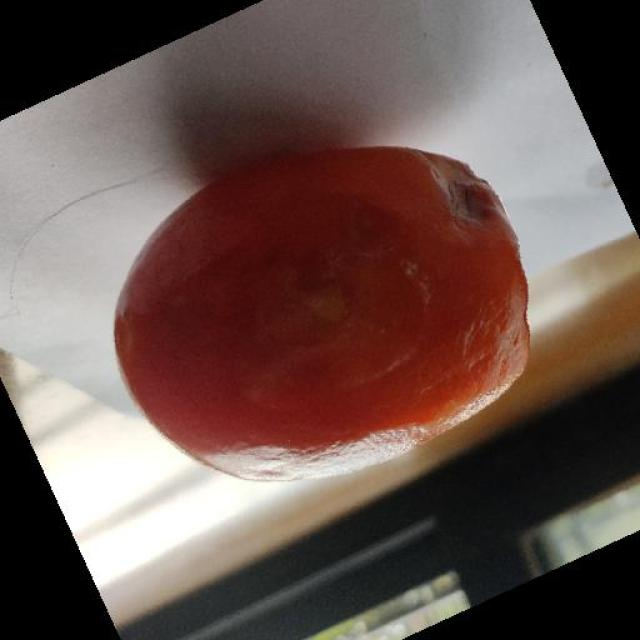Stale_tomato: (108, 153, 558, 459)
